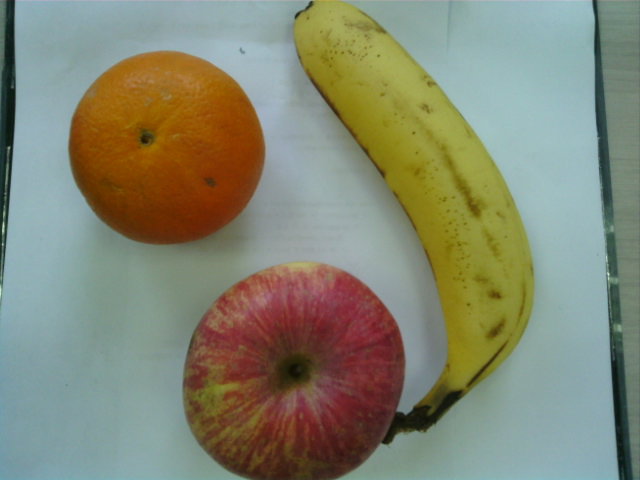normal_apple: (179, 260, 408, 480)
normal_banana: (292, 1, 537, 398)
normal_orange: (68, 49, 268, 248)
